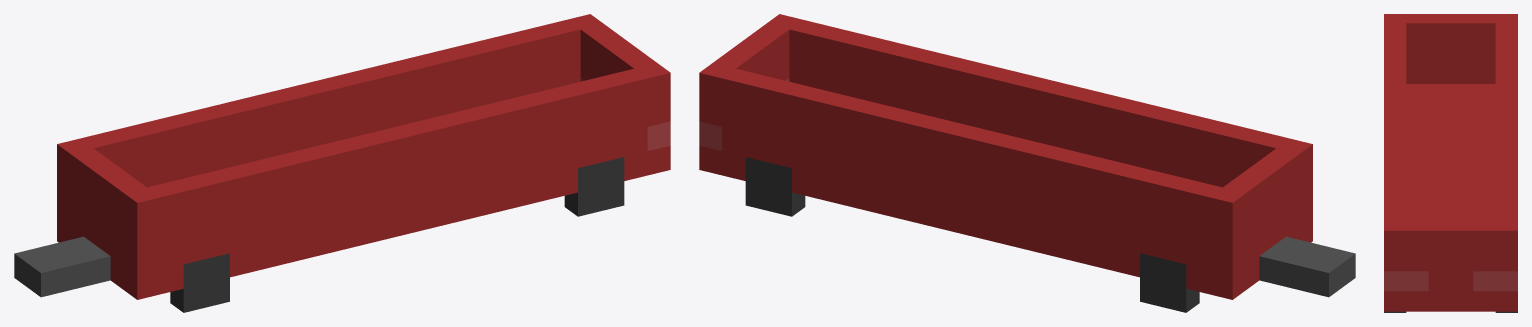
Rendered from truck-trailer-v3-red.gltf.
3 renders of one model, left to right at view 1: azimuth 30°, elevation 25°; view 2: azimuth 150°, elevation 25°; view 3: azimuth 270°, elevation 25°, orthographic. The views are drawn at different scales.
Parts seen in each view (by area): view 1: model, wheels; view 2: model, wheels; view 3: model.
Part boxes in pixels (<box>): model: <box>14,14,670,299</box>; wheels: <box>170,157,624,312</box>; model: <box>699,14,1355,299</box>; wheels: <box>745,157,1199,312</box>; model: <box>1384,14,1517,311</box>.
Bounding box in the file's own units: 2.6 × 0.5 × 0.6.
Materials: 2 (2 with a texture image).
